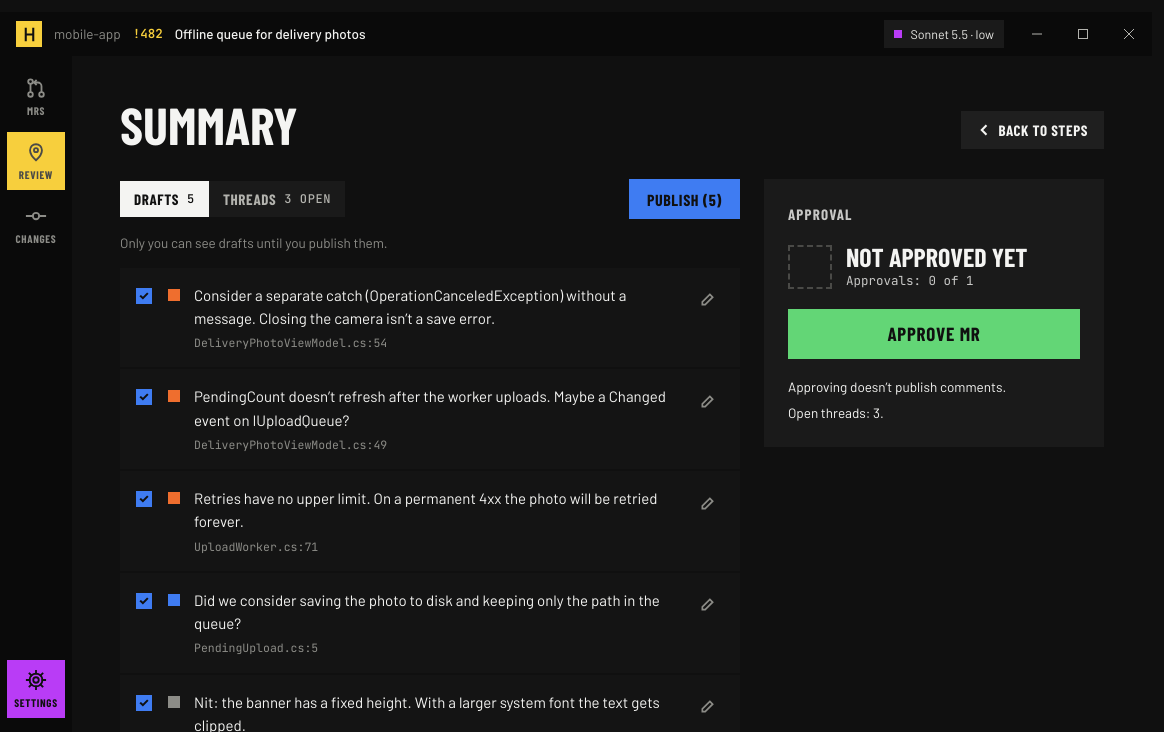
Scenario: S-05 Drafts list (F-12.3) › F-12.3 the note "Only you can see drafts until you publish them." stands above the list, on the Drafts tab only
Click the tab "Threads 3 open". click: (277, 199)
box: x1=209 y1=181 x2=345 y2=217
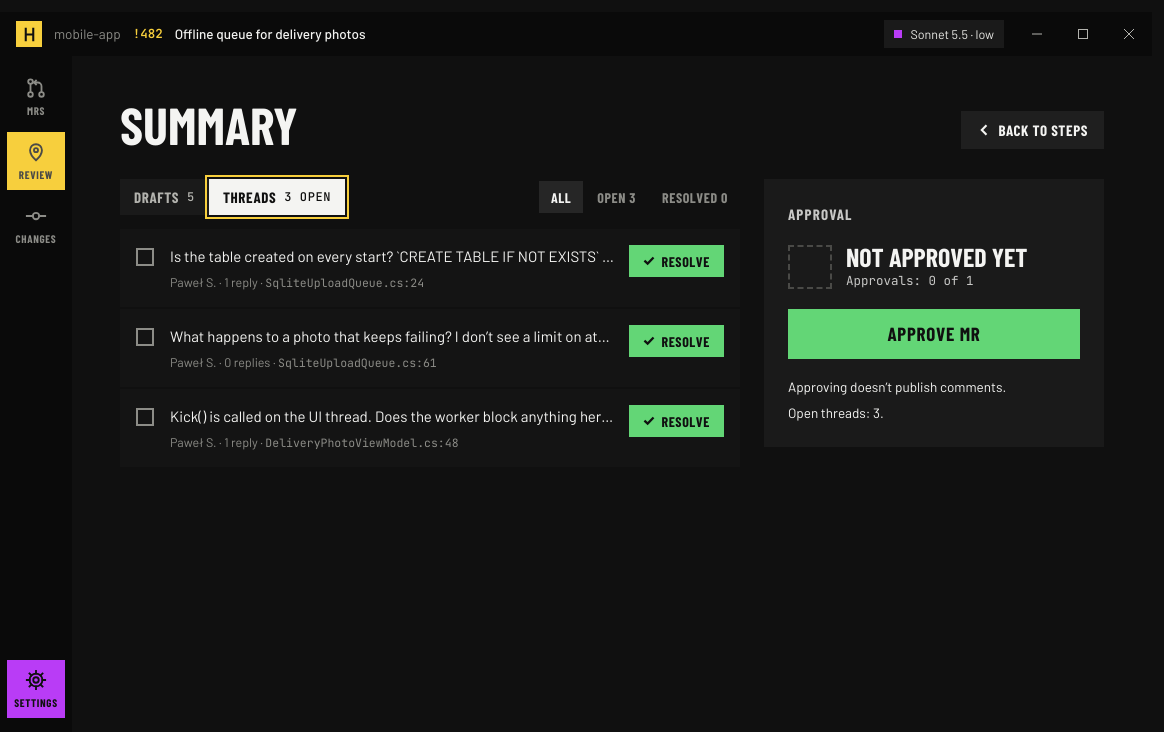
Expected: the text "Only you can see drafts until you publish them." is gone
Click the tab "Drafts 5". click: (164, 197)
box: x1=120 y1=179 x2=209 y2=215
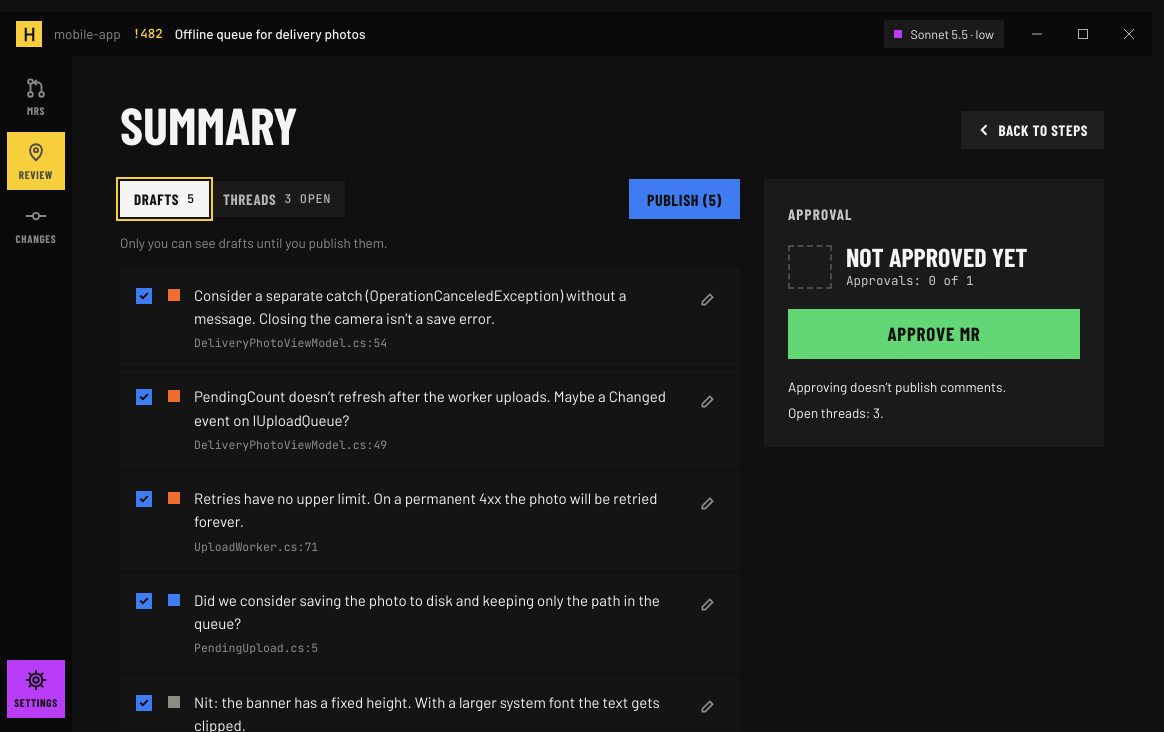
Expected: the text "Only you can see drafts until you publish them." is shown, x1=120 y1=234 x2=388 y2=251
Expected: the number of list items is 5
